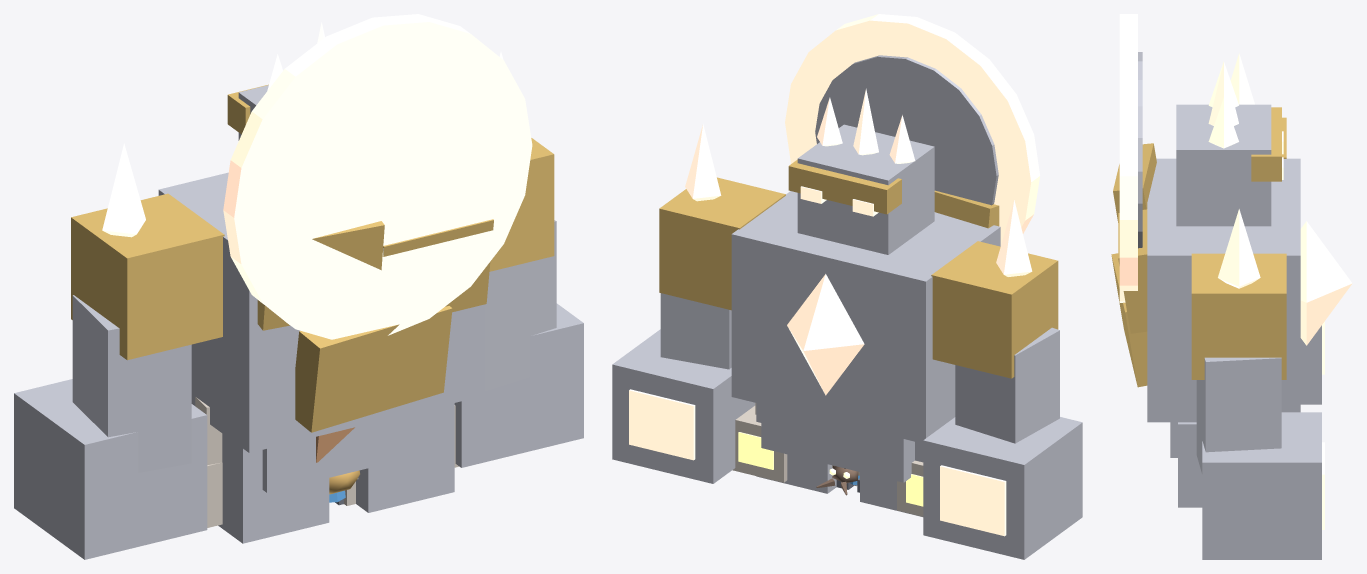
The model's file is moba_creatures.glb.
3 views of the same model, side by side, from view 1: azimuth 30°, elevation 25°; view 2: azimuth 150°, elevation 25°; view 3: azimuth 270°, elevation 25° (orthographic). The views are drawn at different scales.
Visible parts, largest first — view 1: Moba_Colossus_body, Moba_Colossus_armL, Moba_Colossus_armR, Moba_Colossus_legL, Moba_Colossus_legR, Moba_GuardianFury_armL, Moba_Colossus_head; view 2: Moba_Colossus_body, Moba_Colossus_armL, Moba_Colossus_armR, Moba_Colossus_head, Moba_GuardianFury_armR, Moba_Colossus_legR, Moba_Colossus_legL, Moba_GuardianFury_armL; view 3: Moba_Colossus_armR, Moba_Colossus_body, Moba_Colossus_head, Moba_Colossus_armL, Moba_Colossus_legR.
Part boxes in pixels (<box>): Moba_Colossus_body: <box>158,14,532,492</box>; Moba_Colossus_armL: <box>14,143,224,559</box>; Moba_Colossus_armR: <box>454,52,583,467</box>; Moba_Colossus_legL: <box>218,433,329,543</box>; Moba_Colossus_legR: <box>356,403,454,512</box>; Moba_GuardianFury_armL: <box>195,397,222,527</box>; Moba_Colossus_head: <box>227,22,324,140</box>; Moba_Colossus_body: <box>731,14,1039,482</box>; Moba_Colossus_armL: <box>923,200,1082,559</box>; Moba_Colossus_armR: <box>612,124,785,483</box>; Moba_Colossus_head: <box>788,88,934,254</box>; Moba_GuardianFury_armR: <box>732,403,787,482</box>; Moba_Colossus_legR: <box>756,403,836,493</box>; Moba_Colossus_legL: <box>860,441,923,516</box>; Moba_GuardianFury_armL: <box>897,460,923,516</box>; Moba_Colossus_armR: <box>1191,209,1324,559</box>; Moba_Colossus_body: <box>1111,14,1352,457</box>; Moba_Colossus_head: <box>1176,61,1283,226</box>; Moba_Colossus_armL: <box>1230,53,1324,404</box>; Moba_Colossus_legR: <box>1178,422,1202,507</box>.
Size of the model in its own units: 8.27 by 8.19 by 4.09.
